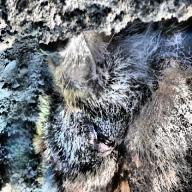boar: (24, 18, 192, 189)
